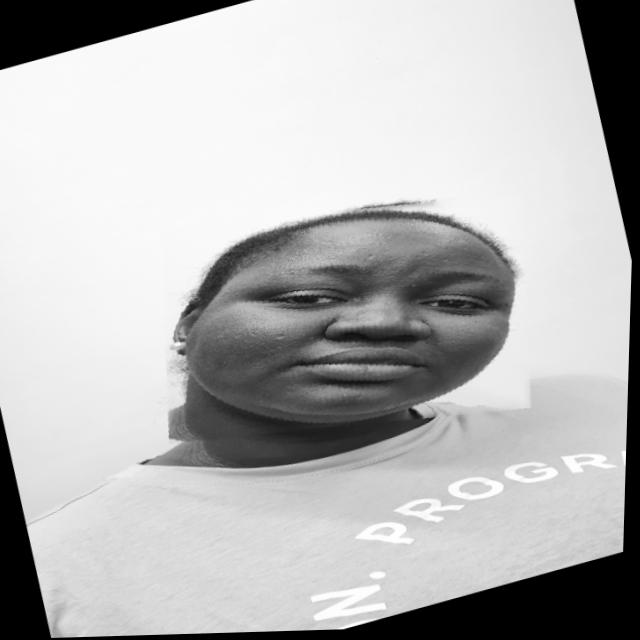sad: (131, 151, 564, 490)
